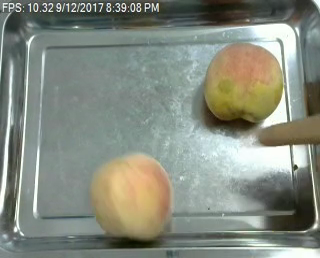Peach: (90, 154, 172, 240), (203, 42, 284, 122)
